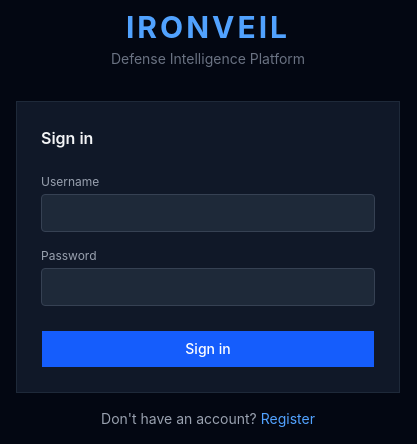
Scenario: LoginPage › shows "Signing in…" on the button while loading
This screenshot has width=417, height=444.
Type "admin" into the field labelled "Username" at (208, 213), box top-left (41, 194), bottom-right (375, 232)
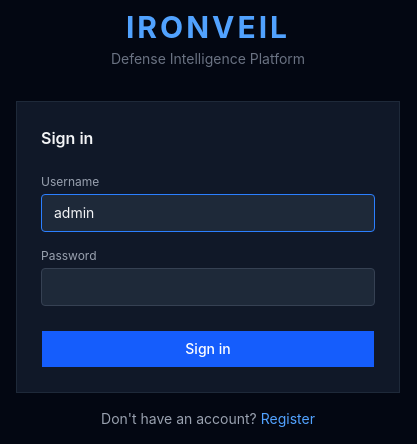
Type "Admin1234!" into the password field labelled "Password" at (208, 287), box top-left (41, 268), bottom-right (375, 306)
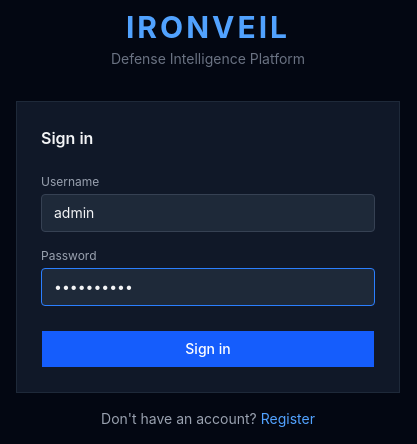
Click the button "Sign in" at (208, 349), box top-left (41, 330), bottom-right (375, 368)
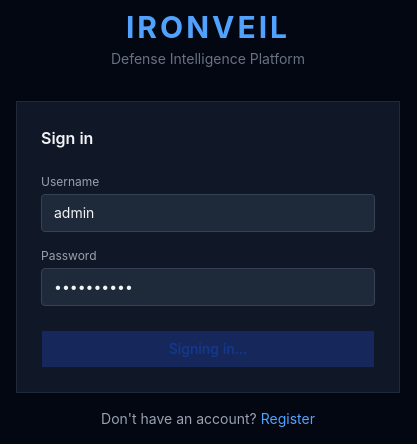
Check: the button "Signing in…" is disabled, box top-left (41, 330), bottom-right (375, 368)
